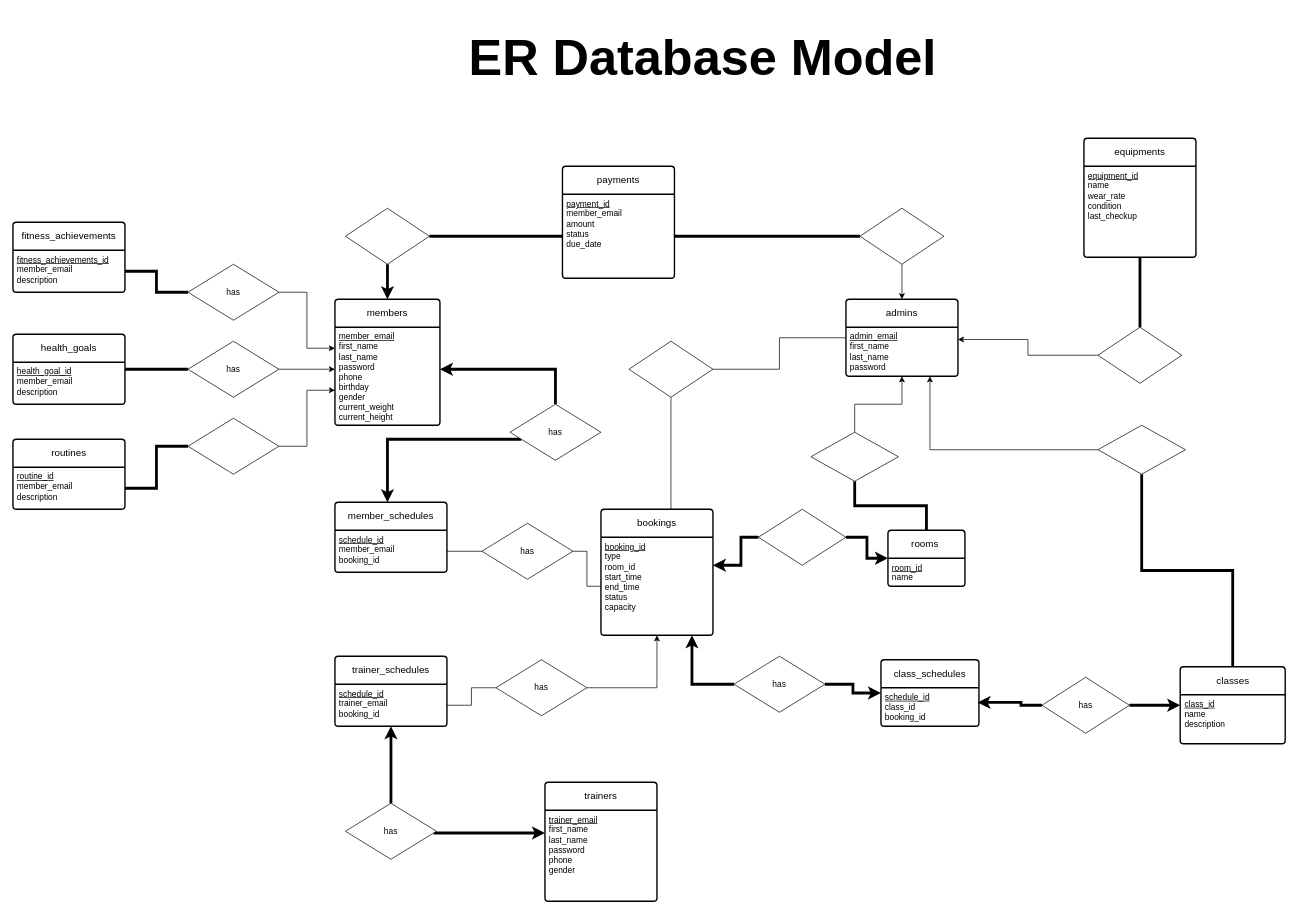
This 1298x914 diagram has some shape labels left out. Each missing label, with the centre of its shape:
"books" belongs at [854,456].
"charge" belongs at [901,236].
"creates" belongs at [233,446].
"is in" belongs at [802,537].
"manages" belongs at [1141,449].
"monitors" belongs at [1139,355].
"pays" belongs at [387,236].
"updates" belongs at [670,369].
